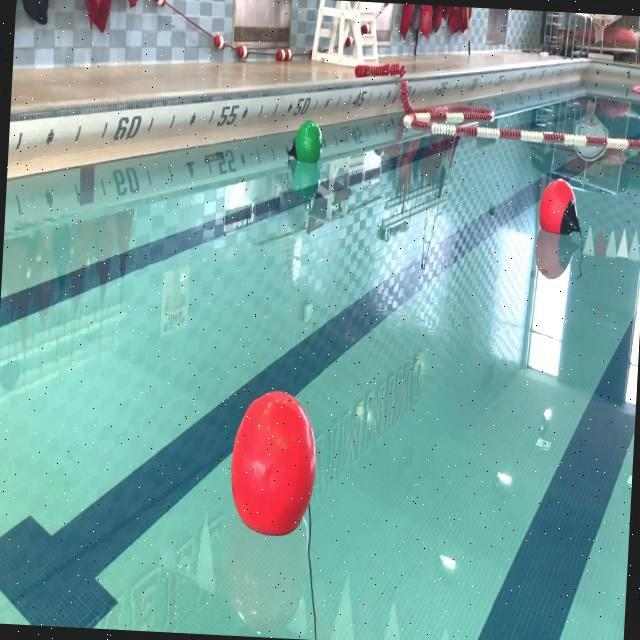buoy: (227, 389, 320, 540), (537, 178, 584, 242), (290, 118, 326, 166)
